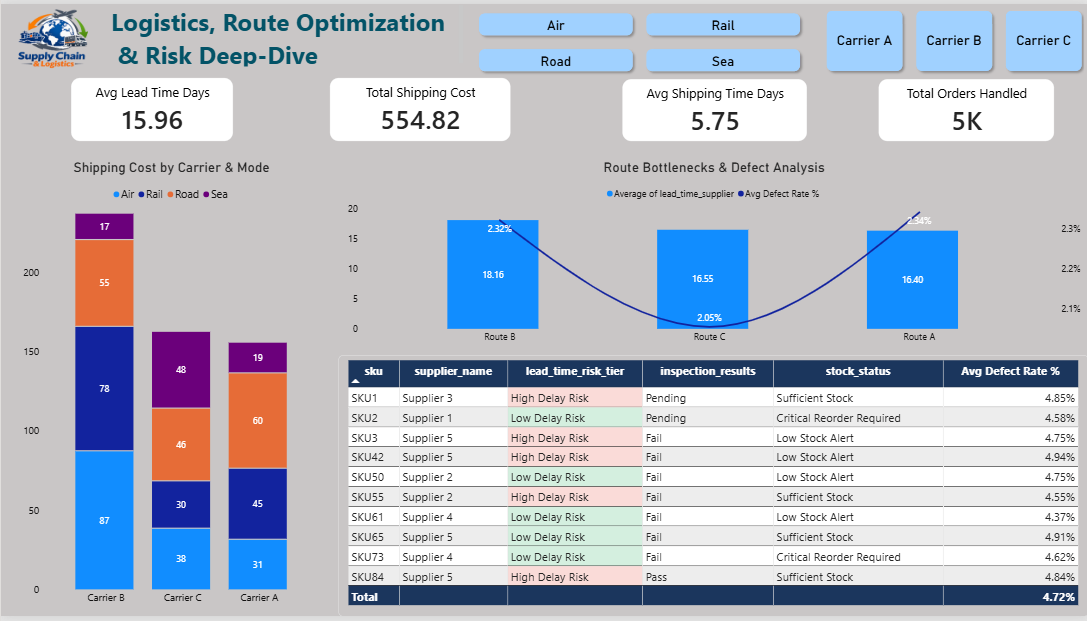

The dashboard page shown, as its layout file describes it:
{"tool":"powerbi","page":{"name":"Logistics, Route Optimization & Risk Deep-Dive","canvas":[1920,1080],"ordinal":1},"visuals":[{"type":"textbox","box":[194,2.2,621.8,108],"z":0},{"type":"cardVisual","fields":{"Data":["_Measures.Total Shipping Cost"]},"box":[579.9,130.1,319.7,112.4],"z":1000},{"type":"cardVisual","fields":{"Data":["_Measures.Avg Lead Time Days"]},"box":[123.5,130.1,286.6,112.4],"z":2000},{"type":"cardVisual","fields":{"Data":["_Measures.Avg Shipping Time Days"]},"box":[1095.8,132.3,326.3,110.2],"z":3000},{"type":"cardVisual","fields":{"Data":["_Measures.Total Orders Handled"]},"box":[1547.8,132.3,310.9,110.2],"z":4000},{"type":"columnChart","title":"Shipping Cost by Carrier & Mode","fields":{"Category":["public supply_chain_data.shipping_carriers"],"Y":["_Measures.Total Shipping Cost"],"Series":["public supply_chain_data.transportation_modes"]},"box":[22,260.2,557.8,820.2],"z":5000},{"type":"lineStackedColumnComboChart","title":"Route Bottlenecks & Defect Analysis","fields":{"Category":["public supply_chain_data.routes"],"Y":["Avg(public supply_chain_data.lead_time_supplier)"],"Y2":["_Measures.Avg Defect Rate %"]},"box":[595.3,260.2,1325.1,359.4],"z":6000},{"type":"tableEx","fields":{"Values":["public supply_chain_data.sku","public supply_chain_data.supplier_name","public supply_chain_data.lead_time_risk_tier","public supply_chain_data.inspection_results","public supply_chain_data.stock_status","_Measures.Avg Defect Rate %"]},"box":[595.3,619.6,1325.1,460.8],"z":7000},{"type":"advancedSlicerVisual","fields":{"Values":["public supply_chain_data.transportation_modes"]},"box":[831.2,4.4,590.9,127.9],"z":8000},{"type":"advancedSlicerVisual","fields":{"Values":["public supply_chain_data.shipping_carriers"]},"box":[1444.2,0,476.3,130.1],"z":9000},{"type":"image","box":[0,2.2,194,130.1],"z":10000}]}

Visuals, with their boxes in screenshot pixels (x1, y1, x2, y2), scaled from the page's 1920x1080 canvas onto the 1087x621 screenshot:
textbox: <box>110,1,462,63</box>
cardVisual - _Measures.Total Shipping Cost: <box>328,75,509,139</box>
cardVisual - _Measures.Avg Lead Time Days: <box>70,75,232,139</box>
cardVisual - _Measures.Avg Shipping Time Days: <box>620,76,805,139</box>
cardVisual - _Measures.Total Orders Handled: <box>876,76,1052,139</box>
"Shipping Cost by Carrier & Mode" columnChart: <box>12,150,328,620</box>
"Route Bottlenecks & Defect Analysis" lineStackedColumnComboChart: <box>337,150,1086,356</box>
tableEx - public supply_chain_data.sku x public supply_chain_data.supplier_name: <box>337,356,1086,620</box>
advancedSlicerVisual - public supply_chain_data.transportation_modes: <box>471,3,805,76</box>
advancedSlicerVisual - public supply_chain_data.shipping_carriers: <box>818,0,1086,75</box>
image: <box>0,1,110,76</box>
